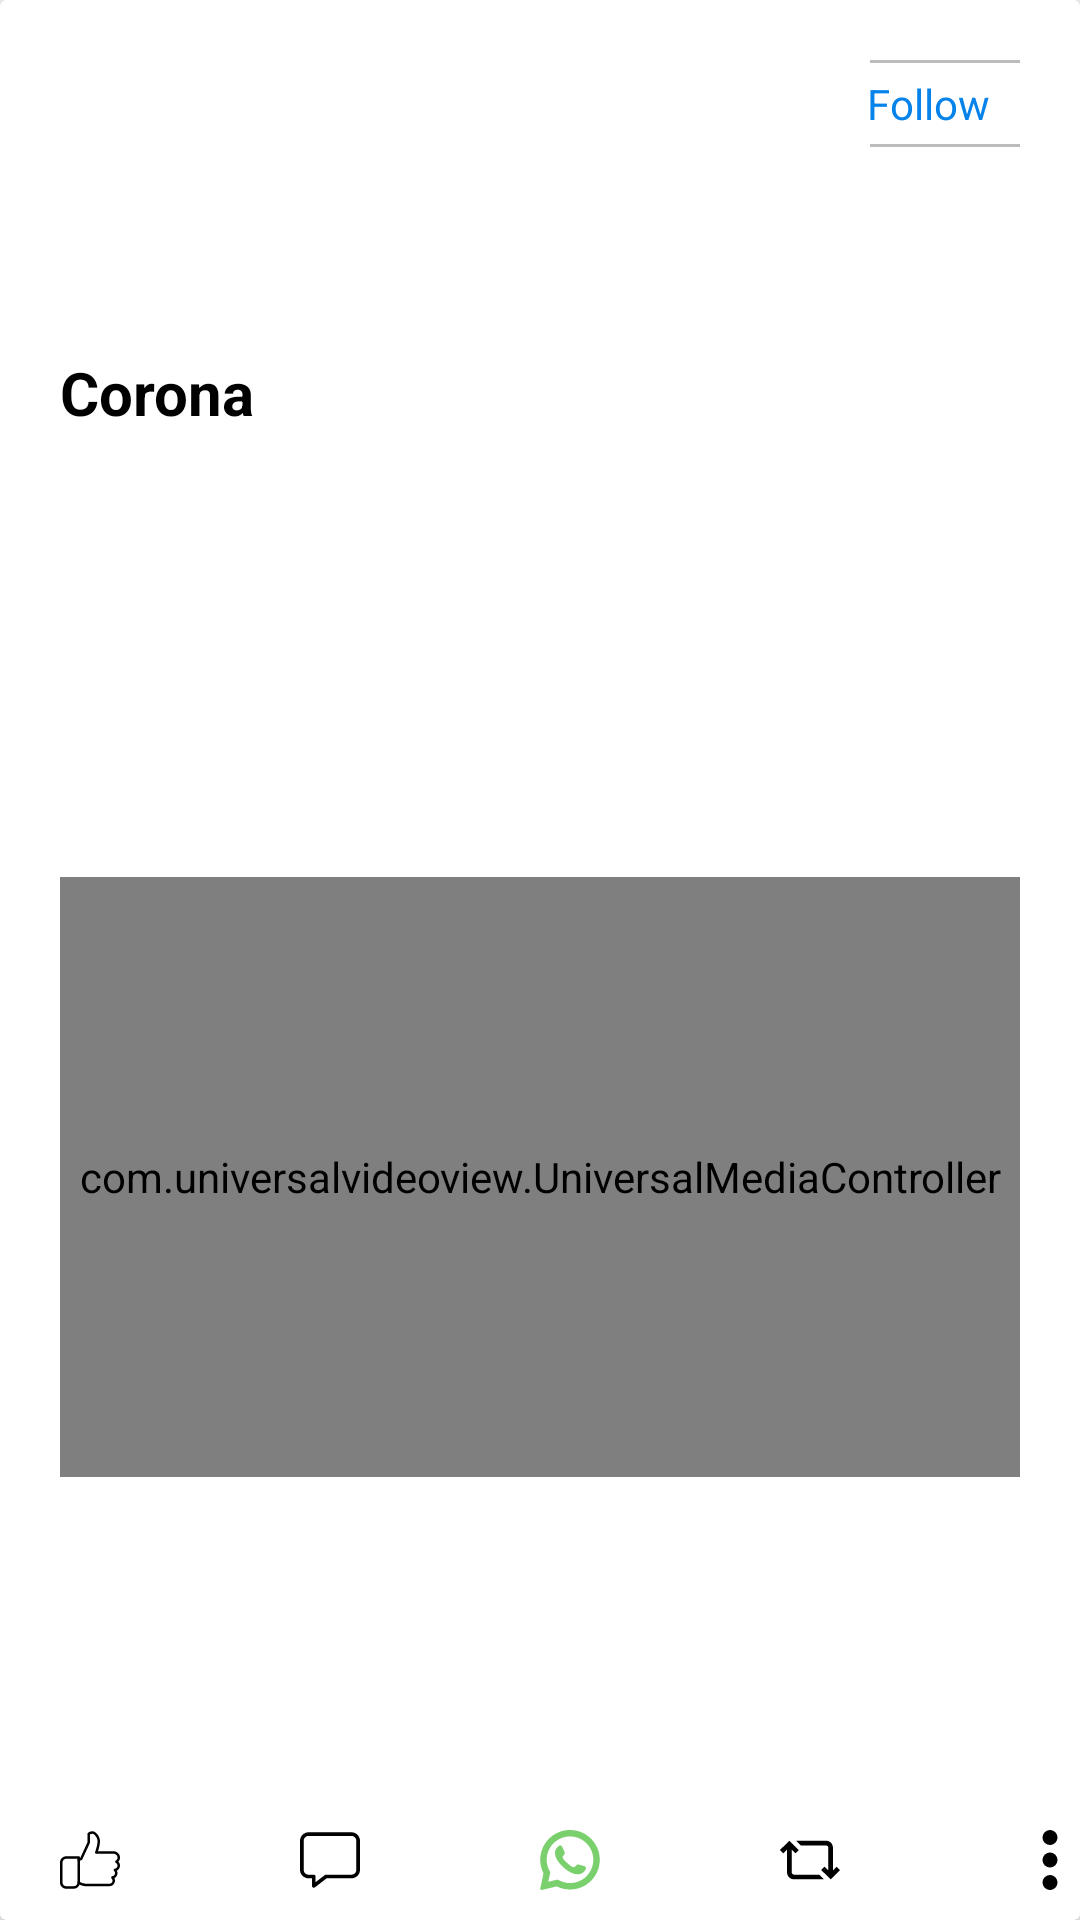

Icons on this 1080w x 1920h Android screen, each with the point to tap as [x,y]:
like: [90,1860]
menu: [1050,1860]
message: [330,1860]
retweet: [810,1860]
